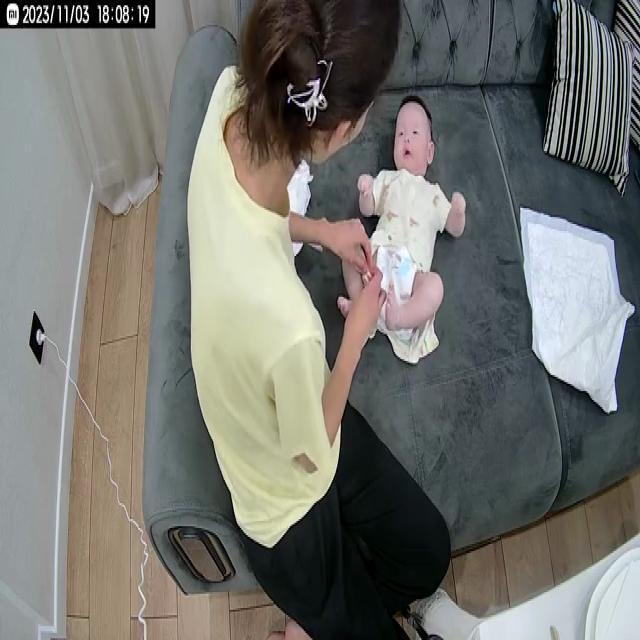baby: (338, 92, 469, 354)
